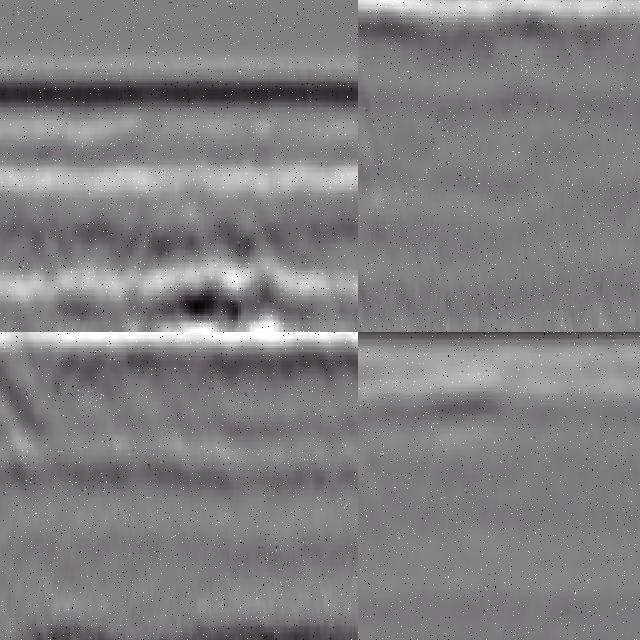loose: (143, 259, 295, 333)
